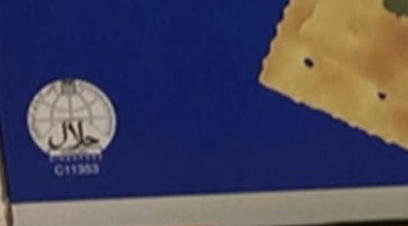halal: (39, 113, 104, 153)
